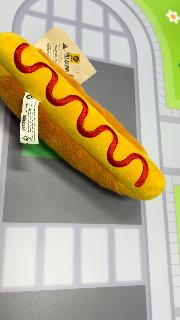hotdog: (2, 31, 166, 201)
